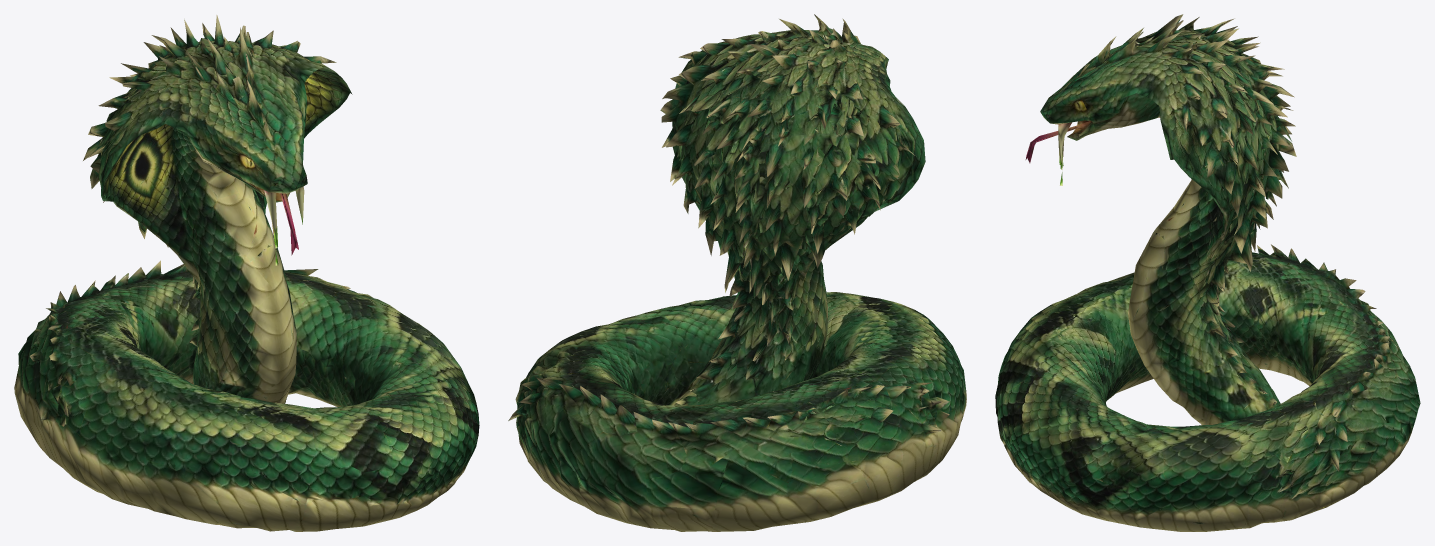
File: viper.glb
3 views of the same model, side by side, from view 1: azimuth 30°, elevation 25°; view 2: azimuth 150°, elevation 25°; view 3: azimuth 270°, elevation 25° (orthographic). The views are drawn at different scales.
Size of the model in its own units: 1.75 by 1.9 by 1.75.
1 material, 1 textured.
